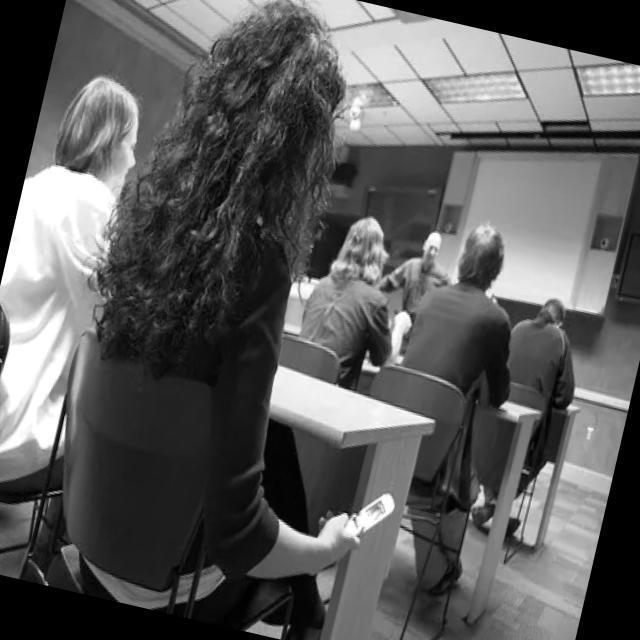phone: (342, 484, 398, 546)
